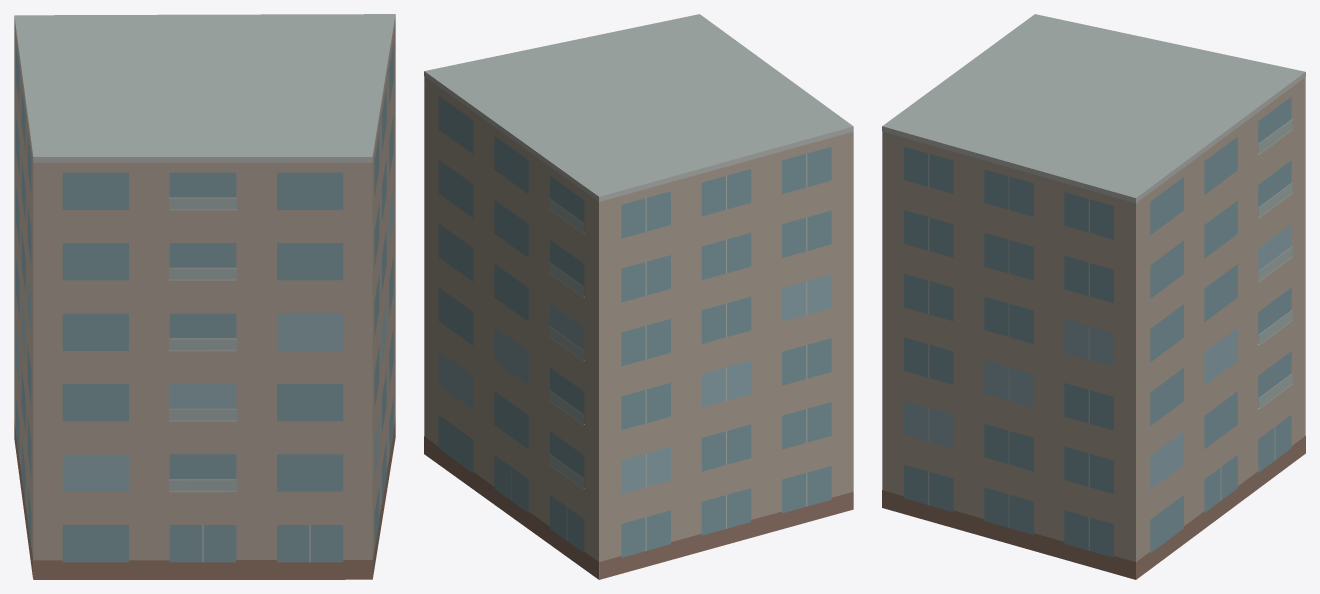
File: survey-upis-32659052.glb
3 renders of one model, left to right at view 1: azimuth 30°, elevation 25°; view 2: azimuth 150°, elevation 25°; view 3: azimuth 270°, elevation 25°, orthographic. The views are drawn at different scales.
Parts seen in each view (by area): view 1: survey-upis-32659052.tmp; view 2: survey-upis-32659052.tmp; view 3: survey-upis-32659052.tmp.
Part boxes in pixels (left/top/right/bottom): survey-upis-32659052.tmp: left=14, top=14, right=395, bottom=579; survey-upis-32659052.tmp: left=424, top=14, right=853, bottom=579; survey-upis-32659052.tmp: left=882, top=14, right=1305, bottom=579.
Size of the model in its own units: 18.95 by 18.3 by 18.42.
